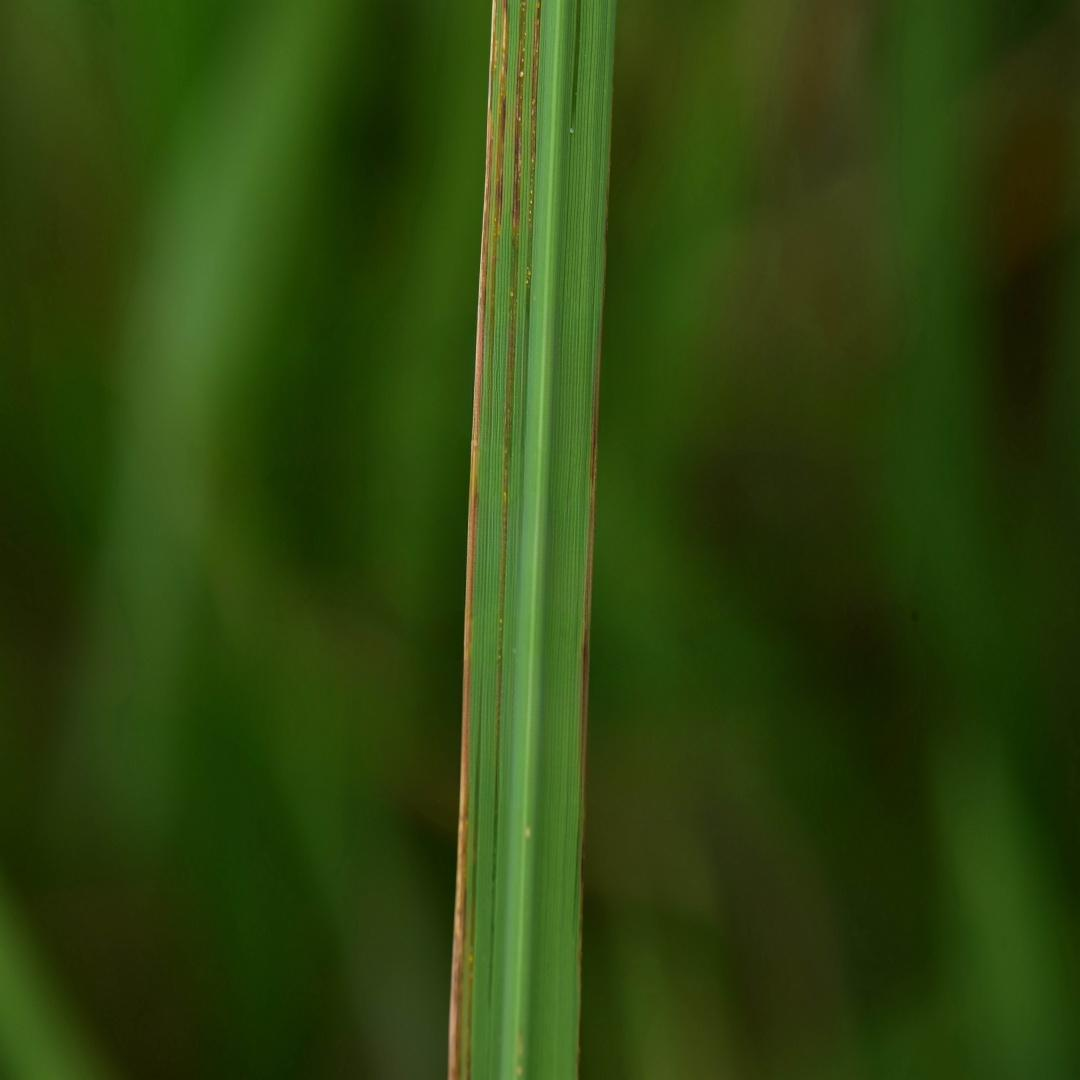BLS: (448, 1, 498, 1079), (498, 0, 527, 676), (578, 316, 603, 967), (520, 0, 542, 470), (491, 1, 510, 351), (465, 880, 477, 1079)
LEAF: (448, 0, 616, 1079)
